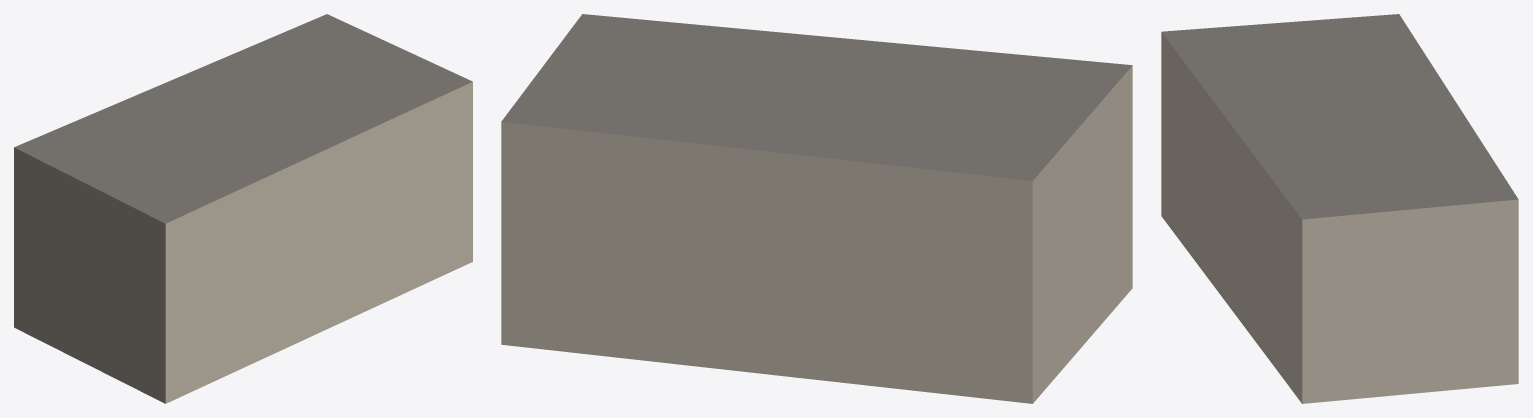
The picture shows the model from 3 angles, left to right: view 1: azimuth 30°, elevation 25°; view 2: azimuth 150°, elevation 25°; view 3: azimuth 270°, elevation 25°; orthographic projection. The views are drawn at different scales.
Visible parts, largest first — view 1: HP-w1355305324; view 2: HP-w1355305324; view 3: HP-w1355305324.
Part boxes in pixels (left/top/right/bottom): HP-w1355305324: left=14, top=14, right=472, bottom=403; HP-w1355305324: left=501, top=14, right=1132, bottom=403; HP-w1355305324: left=1161, top=14, right=1518, bottom=403.
Bounding box in the file's own units: 43.02 × 18 × 31.61.
